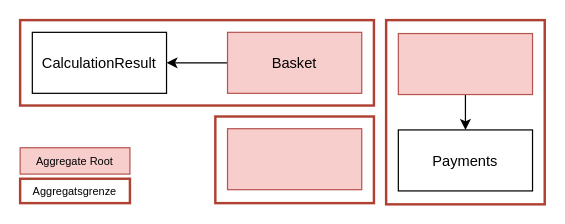
Some shapes in this 565 by 224 pixel diagram are drawn without their labels. Here are the shapes that lost their labels. From the top down, the box of each, then its label:
(397, 32, 533, 95): PaymentProcess
(226, 127, 362, 190): BasketItems
